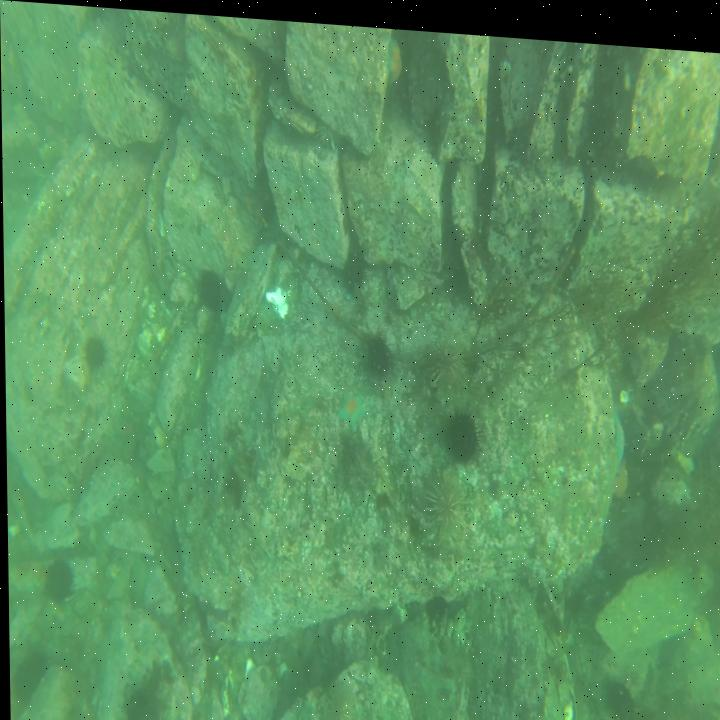echinus: (424, 462, 463, 532), (427, 329, 467, 393), (441, 400, 481, 462), (361, 321, 393, 377), (320, 674, 357, 720), (42, 557, 74, 606), (604, 664, 632, 712), (195, 262, 221, 311), (82, 331, 108, 375)
starfish: (338, 380, 368, 432), (113, 405, 139, 446), (386, 28, 404, 82), (609, 399, 626, 455)
